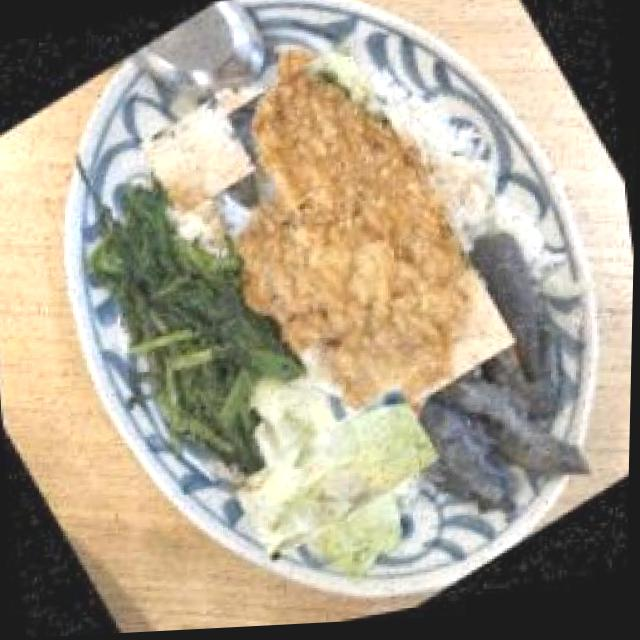chinese_cabbage: (233, 370, 441, 583)
fried_chicken: (162, 18, 532, 476)
rice: (133, 92, 263, 224)
water_spinach: (50, 151, 295, 474)
